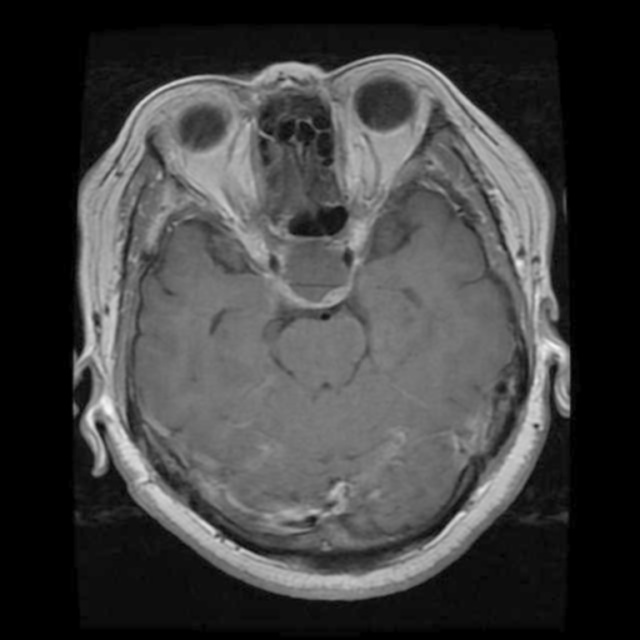no tumor: (276, 229, 362, 310)
